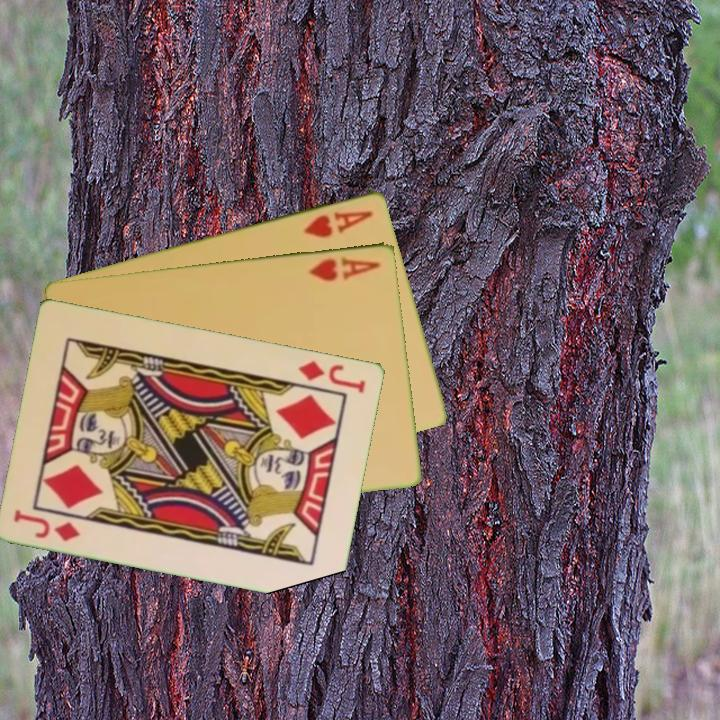Ah: (300, 206, 376, 240), (306, 252, 384, 284)
Jd: (295, 356, 369, 396), (10, 505, 83, 544)
